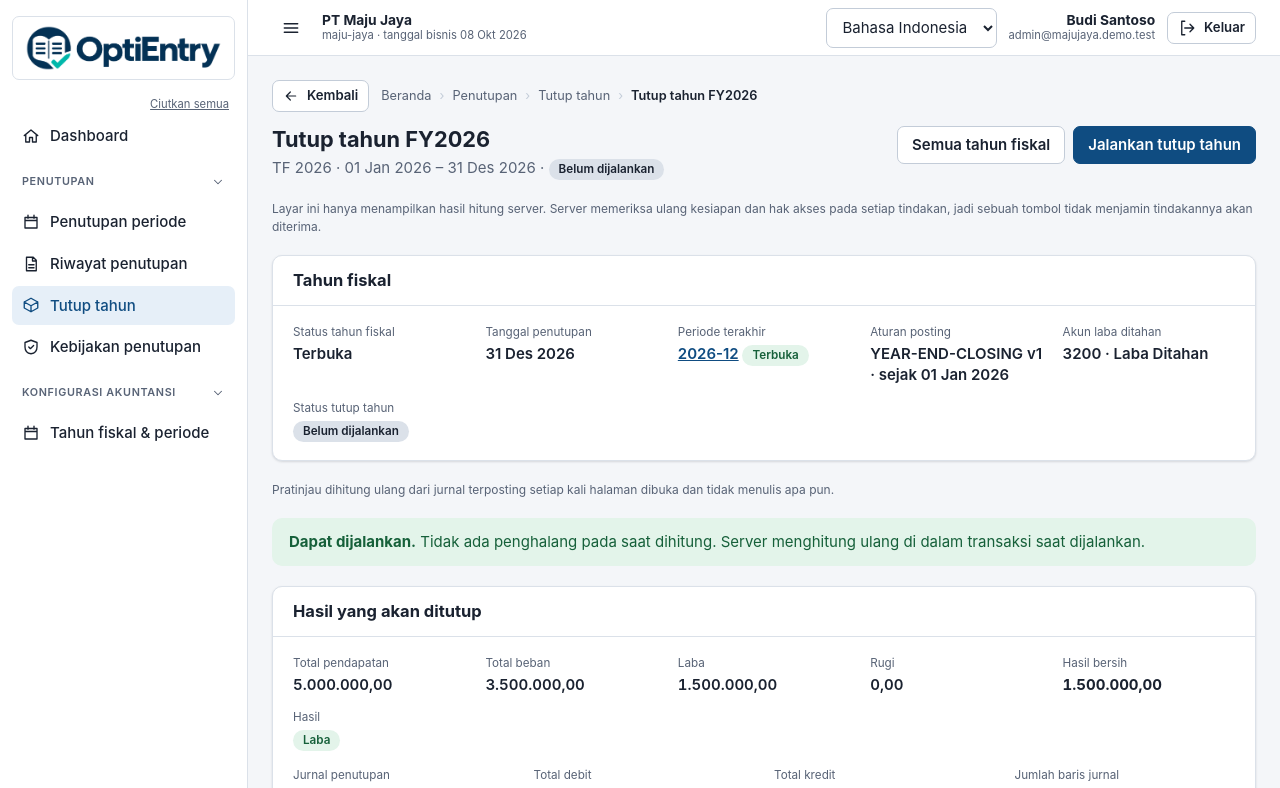
Test: year end detail › runs the year end after a confirmation that names what it will do, and reads everything again
The image size is (1280, 788).
Click the button "Jalankan tutup tahun" at coordinates (1165, 145), box [1073,126,1256,164]
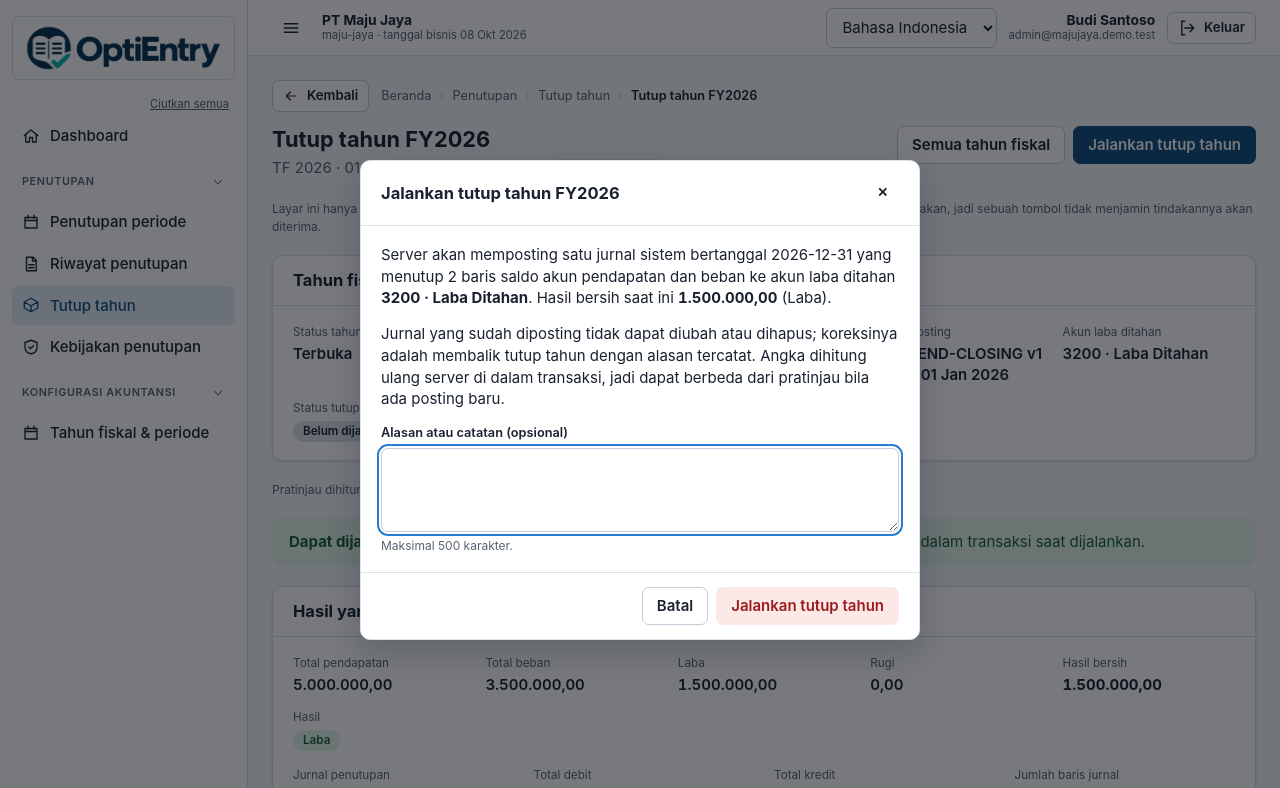
Result: the text "jurnal sistem bertanggal 2026-12-31 yang menutup 2 baris saldo" is shown at [381,244,899,309]
Result: the text "3200 · Laba Ditahan" is shown at [381,288,528,307]
Result: the text "angka dihitung ulang server di dalam transaksi" is shown at [381,324,897,408]
Type "Penutupan tahunan" into the text box labelled "Alasan atau catatan (opsional)" at coordinates (640, 490), box [381,448,899,532]
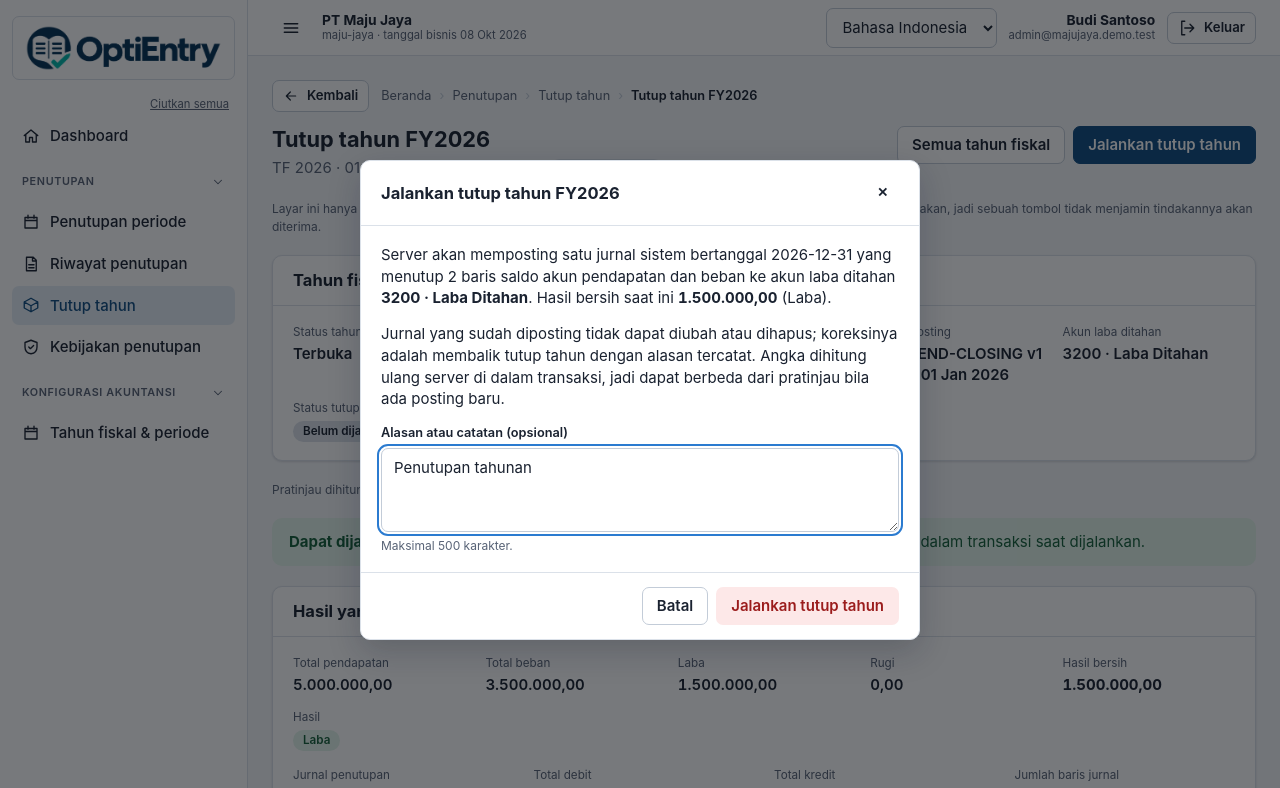
Click the button "Jalankan tutup tahun" at coordinates (808, 606), box [716,587,899,625]
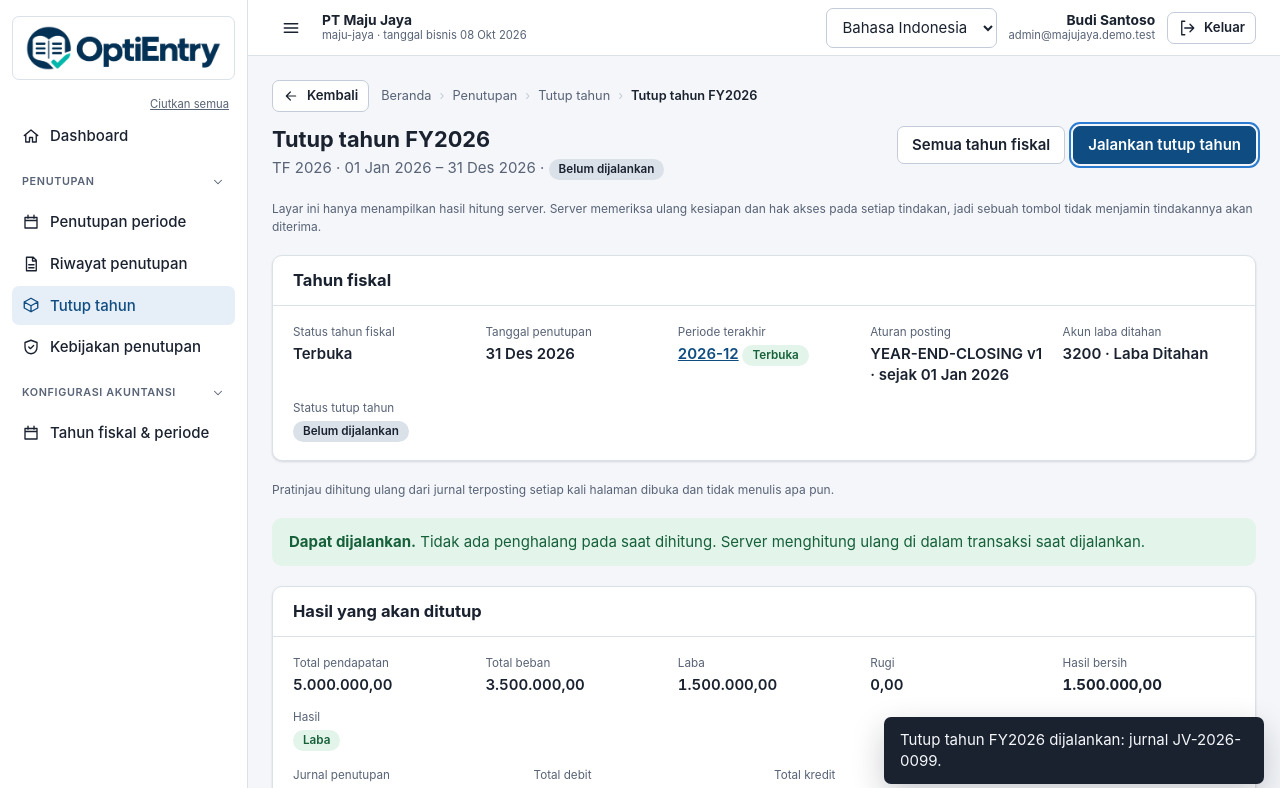
Result: the text "Tutup tahun FY2026 dijalankan: jurnal JV-2026-0099." is shown at [884,716,1264,784]
